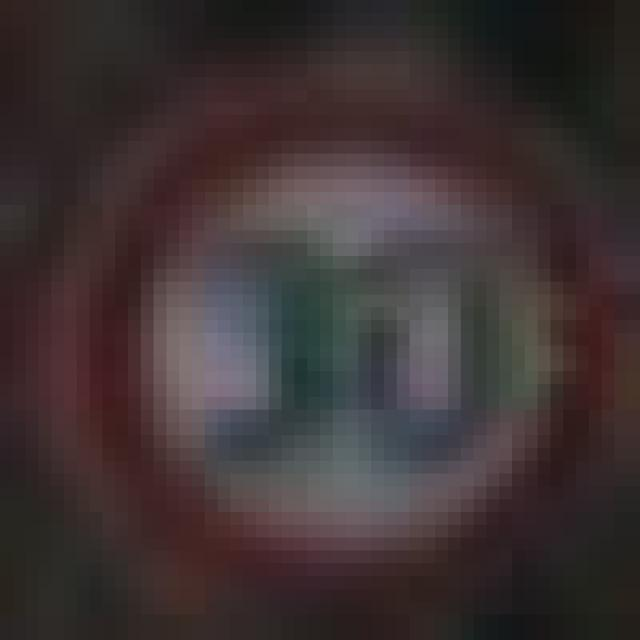SPEED_LIMIT_30: (26, 51, 614, 589)
